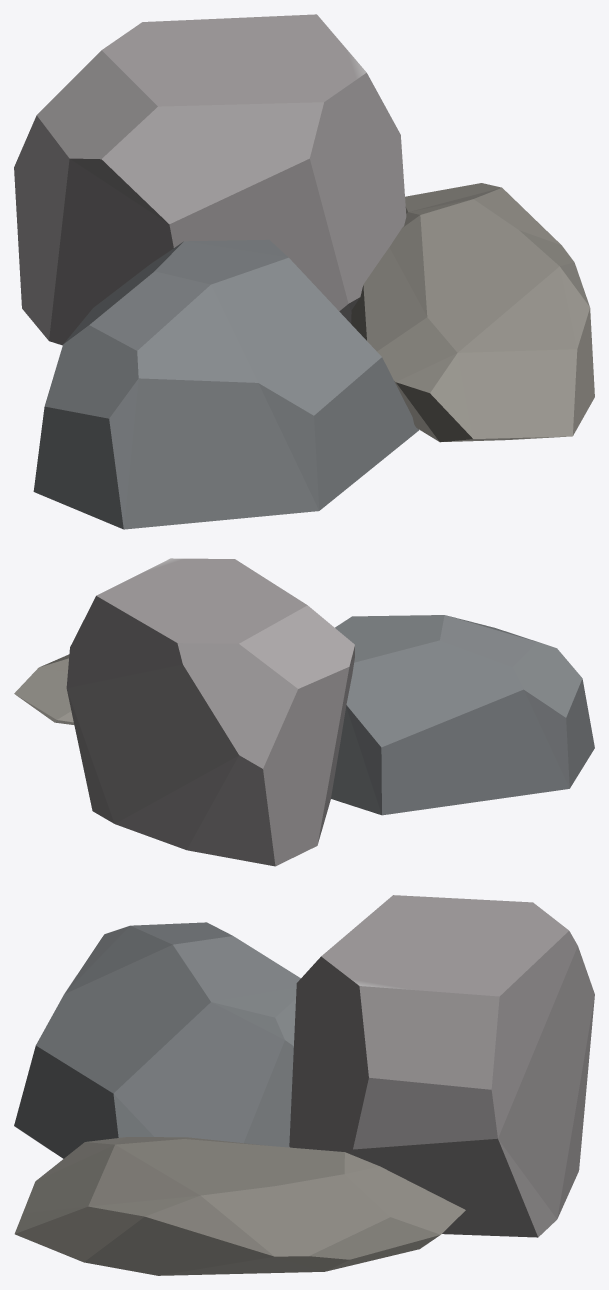
File: Rocks_Round_m_01 5.fbx
The picture shows the model from 3 angles, top to bottom: view 1: azimuth 30°, elevation 25°; view 2: azimuth 150°, elevation 25°; view 3: azimuth 270°, elevation 25°; orthographic projection. The views are drawn at different scales.
Parts seen in each view (by area): view 1: Rocks_Round_m_01; view 2: Rocks_Round_m_01; view 3: Rocks_Round_m_01.
Part boxes in pixels (bbox=[...]): Rocks_Round_m_01: bbox=[14, 14, 594, 529]; Rocks_Round_m_01: bbox=[14, 558, 594, 866]; Rocks_Round_m_01: bbox=[14, 895, 594, 1275].
Size of the model in its own units: 197 by 81.7 by 173.
